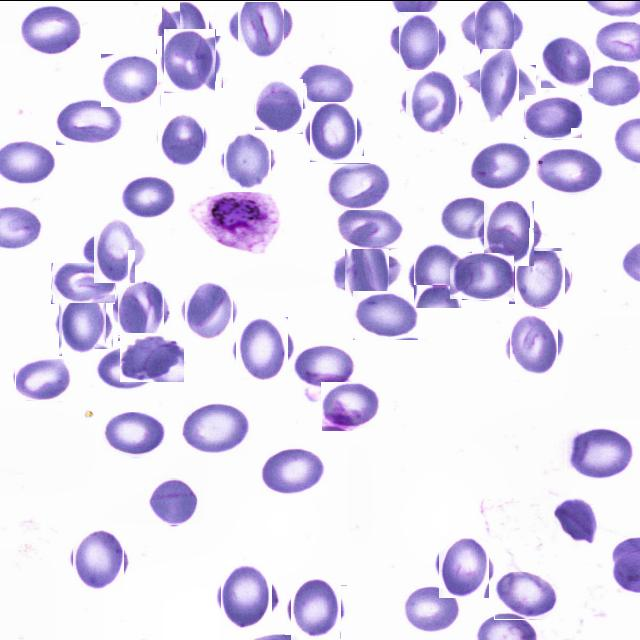difficult: (188, 188, 282, 253)
red blood cell: (180, 400, 251, 454), (565, 426, 634, 481), (216, 565, 277, 626), (337, 240, 398, 300), (161, 31, 220, 90), (402, 72, 462, 130), (259, 445, 326, 496), (234, 319, 292, 377), (410, 245, 468, 303), (480, 204, 538, 262), (70, 530, 127, 588), (352, 290, 418, 340), (19, 4, 82, 56), (325, 162, 391, 211), (292, 340, 356, 390), (101, 53, 161, 106), (535, 148, 604, 194), (506, 316, 562, 372), (512, 250, 568, 306), (120, 332, 184, 381), (288, 581, 344, 637), (472, 56, 528, 112), (436, 538, 492, 594), (56, 98, 124, 144), (494, 571, 559, 619), (402, 582, 462, 634), (469, 141, 532, 190), (466, 0, 522, 55), (449, 252, 514, 299), (181, 283, 236, 338), (220, 132, 274, 188), (94, 343, 161, 388), (321, 381, 381, 431), (306, 104, 361, 158), (232, 0, 289, 52), (439, 194, 502, 241), (114, 282, 168, 336), (56, 297, 110, 351), (88, 222, 142, 276), (102, 411, 165, 457), (541, 34, 594, 88), (160, 2, 212, 56), (253, 80, 305, 132), (51, 262, 116, 303), (336, 209, 404, 248), (524, 94, 582, 138), (296, 62, 354, 106), (394, 15, 444, 66), (156, 114, 207, 164), (120, 172, 175, 218), (15, 358, 73, 400), (548, 496, 597, 545), (149, 477, 198, 526)
